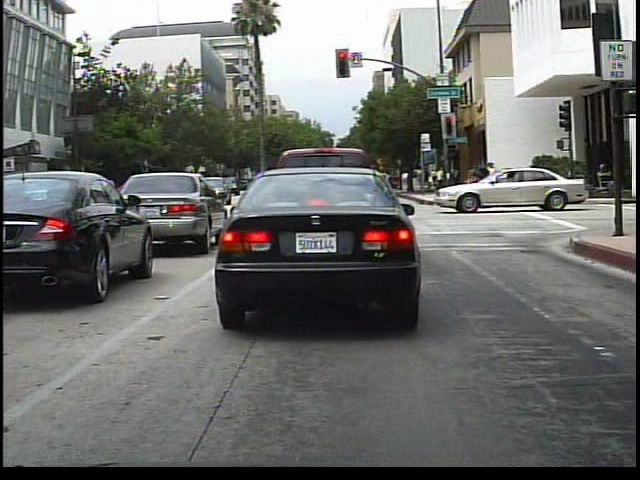person: (465, 157, 493, 206), (465, 158, 483, 200), (482, 158, 500, 197)
